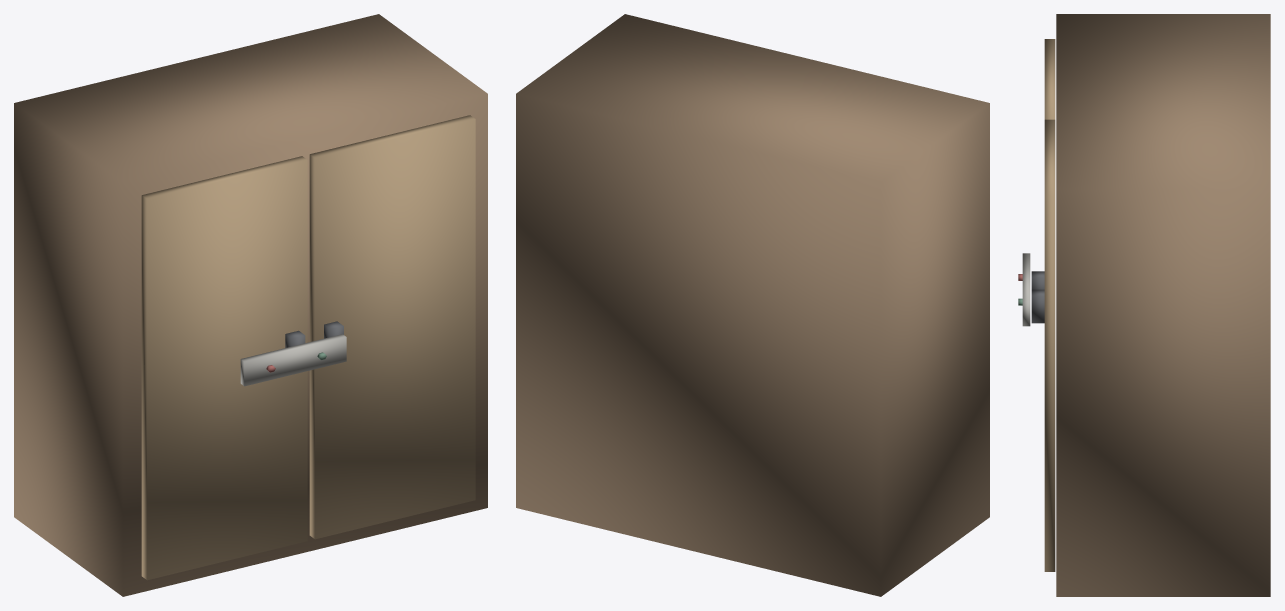
File: tv_stand__squat.glb
The picture shows the model from 3 angles, left to right: view 1: azimuth 30°, elevation 25°; view 2: azimuth 150°, elevation 25°; view 3: azimuth 270°, elevation 25°; orthographic projection.
Parts seen in each view (by area): view 1: world; view 2: world; view 3: world.
Boxes of the visible parts, x1,y1,x2,y2 form: world: (14, 14, 487, 596); world: (516, 14, 989, 596); world: (1018, 14, 1270, 596).
Size of the model in its own units: 1.04 by 1.13 by 0.6356.
